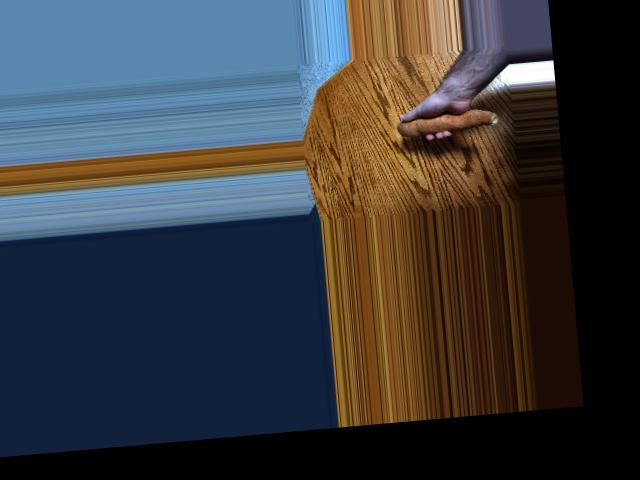sweet_potato: (388, 100, 500, 143)
